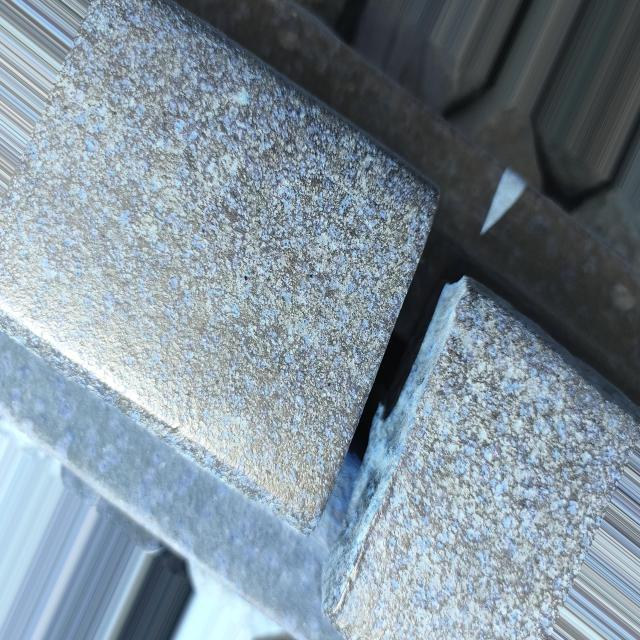crack: (215, 117, 546, 640)
